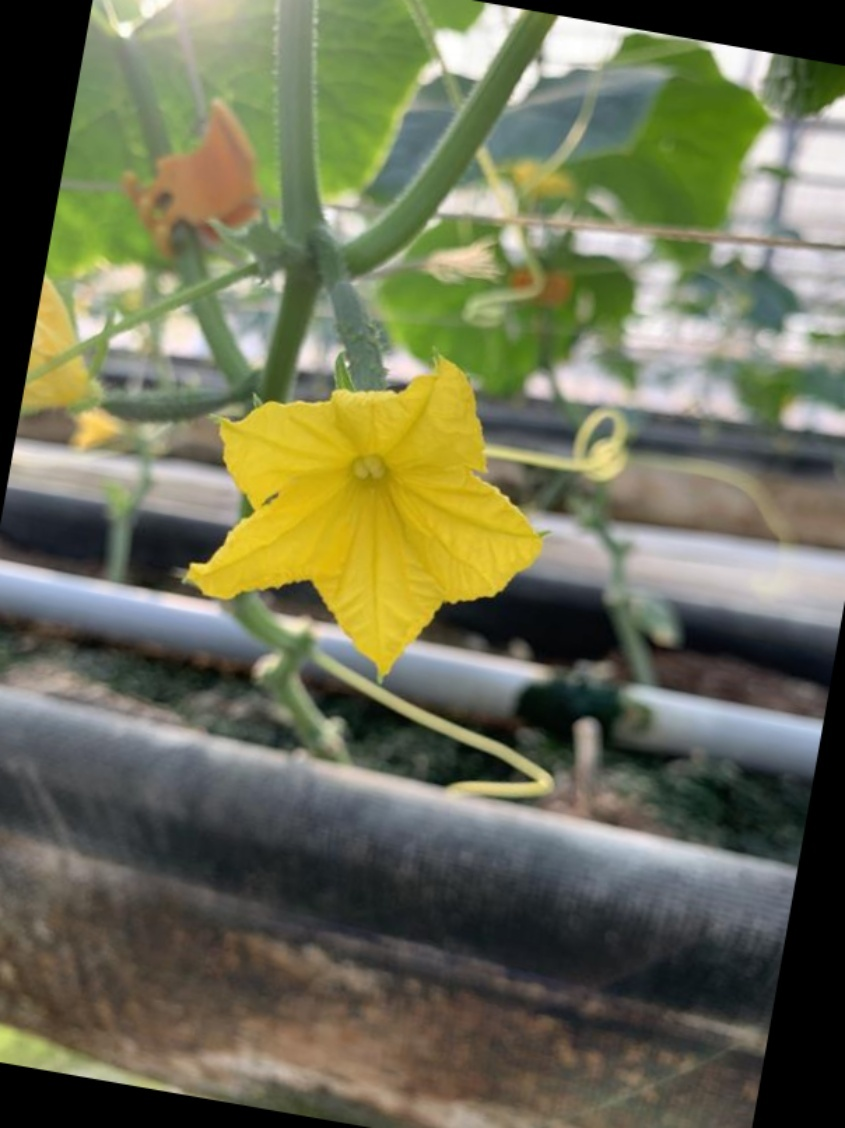flowering: (170, 259, 575, 686)
mature: (171, 258, 573, 684)
